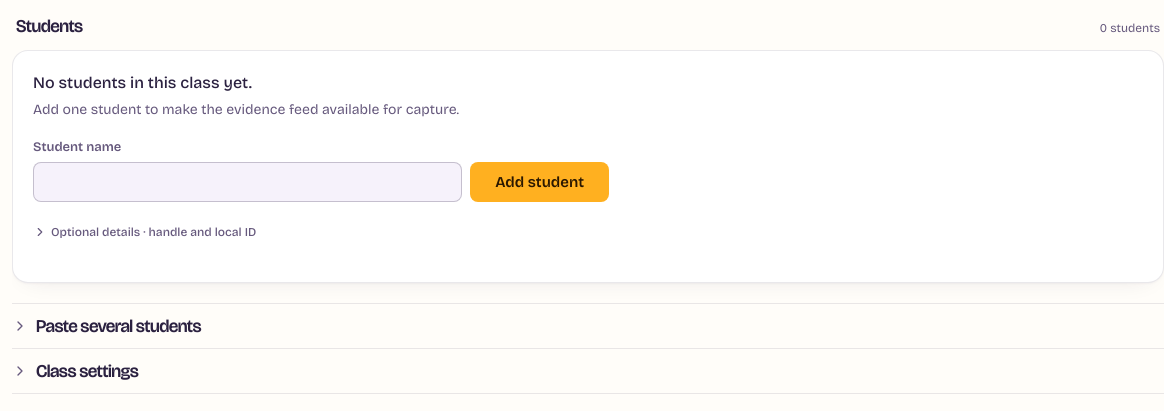
Scenario: ClassRosterManager › shows a newly created student immediately and refreshes authoritative data
The width and height of the screenshot is (1164, 411).
Expected: the text "No students in this class yet." is shown, 33,73 -> 252,92
In the field labelled "Student name": x=248, y=182 33,162 -> 462,202, type "Mary"
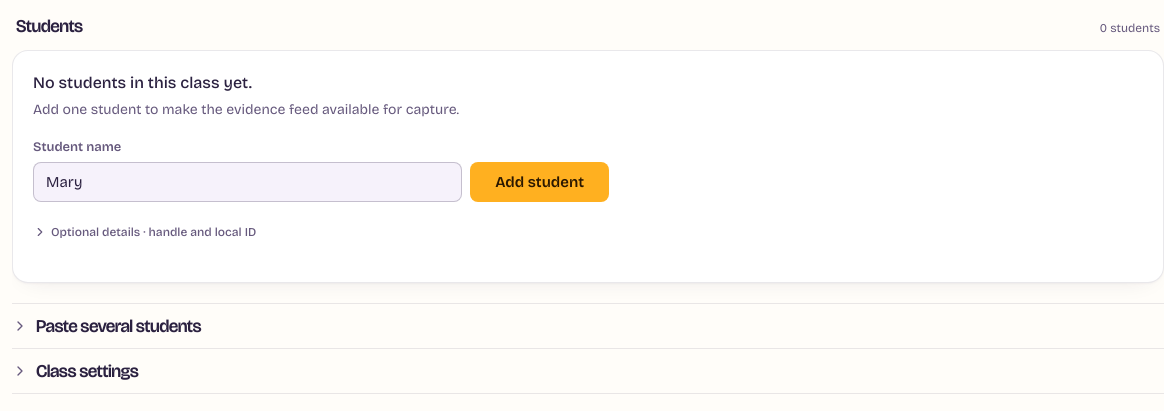
Click the button "Add student": x=540, y=182 470,162 -> 609,202
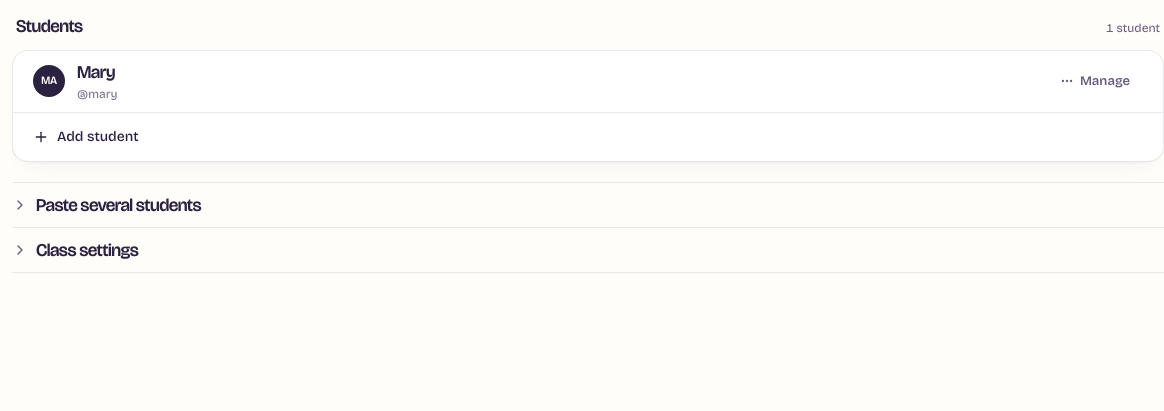
Expected: the link with aria-label "Open Mary timeline" is shown, 33,61 -> 118,100
Expected: the text "No students in this class yet." is gone
